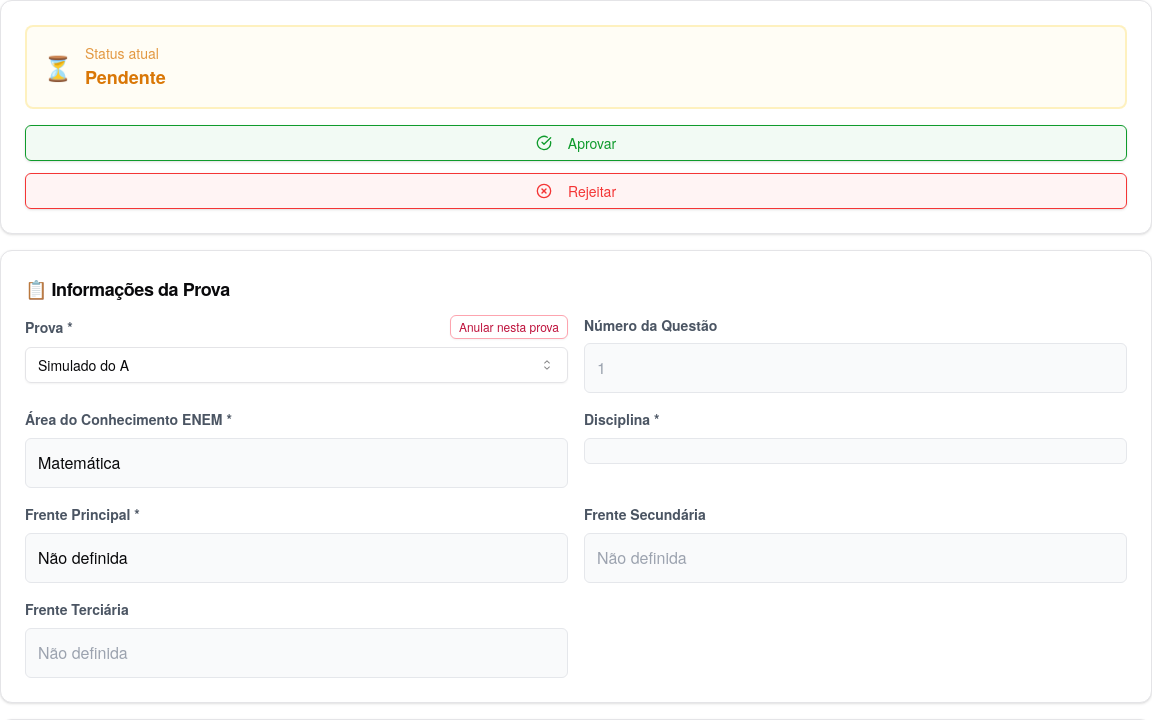
Scenario: TabClassificacao — validador do cursinho (024 · 05) › ⚠️ recusa barrada: o modal lista as provas — sua, de outro cursinho, oficial, da plataforma
Click the button "Rejeitar" at {"x": 576, "y": 191}, box x1=25 y1=173 x2=1127 y2=209
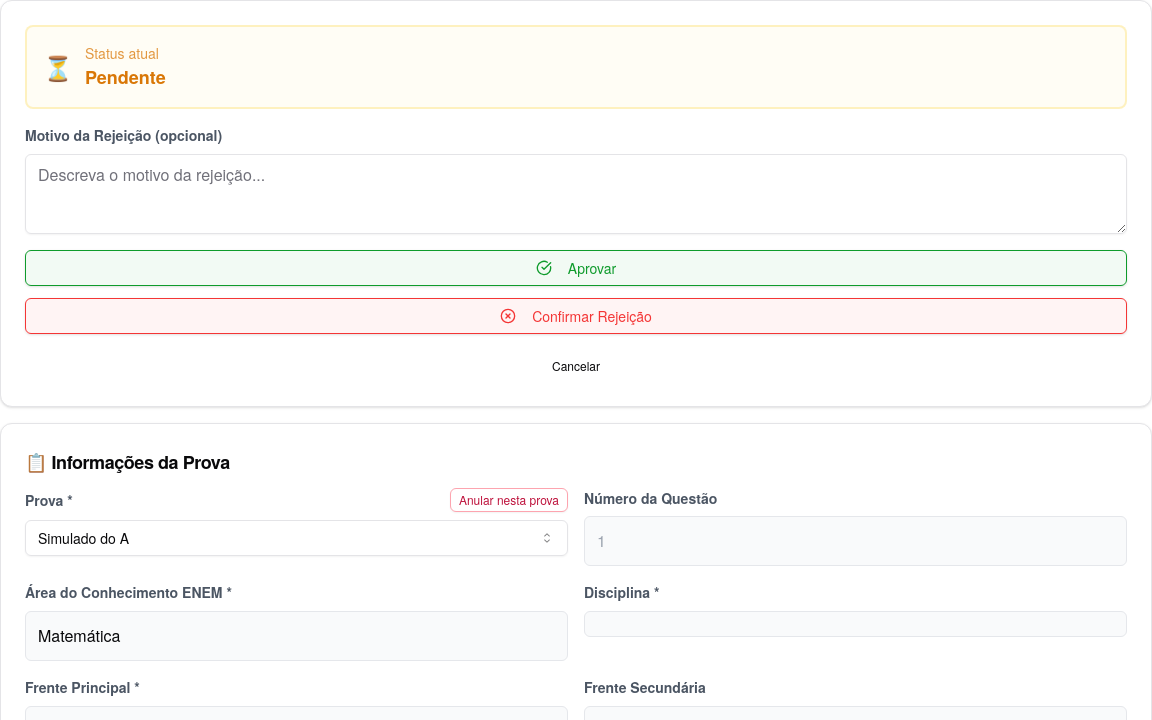
Click the button "Confirmar Rejeição" at {"x": 576, "y": 316}, box x1=25 y1=298 x2=1127 y2=334
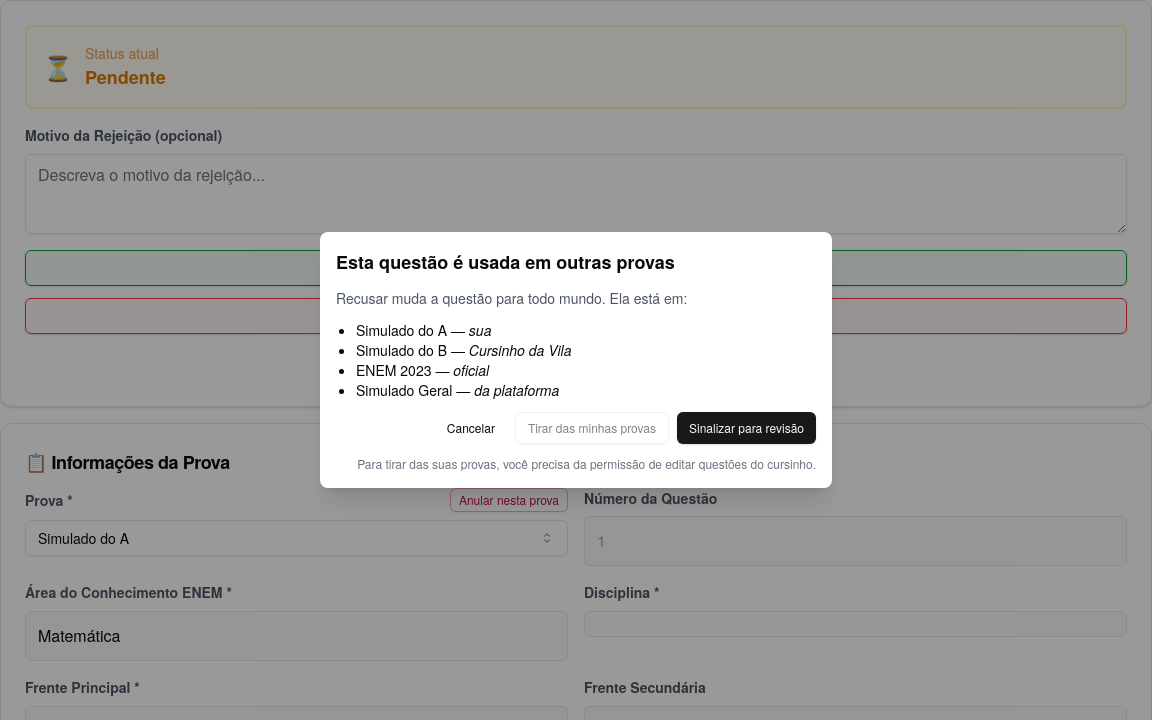
Result: the list shows "Simulado do A — sua" at x1=356 y1=320 x2=572 y2=400
Result: the list shows "Simulado do B — Cursinho da Vila" at x1=356 y1=320 x2=572 y2=400
Result: the list shows "ENEM 2023 — oficial" at x1=356 y1=320 x2=572 y2=400
